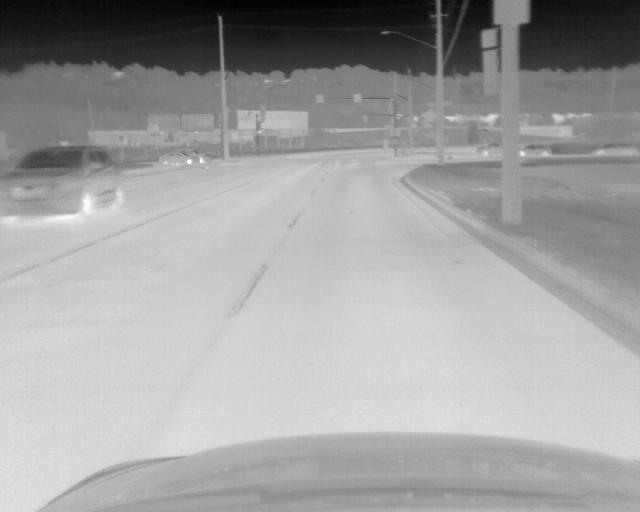car: (1, 145, 125, 223), (590, 142, 639, 156), (158, 150, 200, 164), (476, 143, 508, 157), (519, 143, 551, 157), (184, 149, 210, 163)
